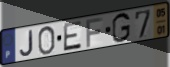7: (134, 8, 152, 40)
E: (63, 19, 83, 53)
F: (85, 16, 104, 48)
G: (111, 12, 132, 44)
J: (19, 30, 35, 58)
O: (37, 24, 56, 56)
